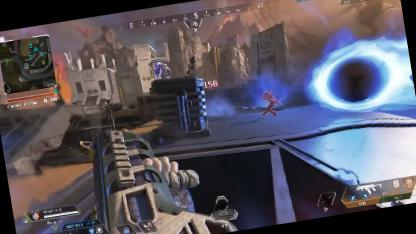Target: (260, 88, 280, 116)
